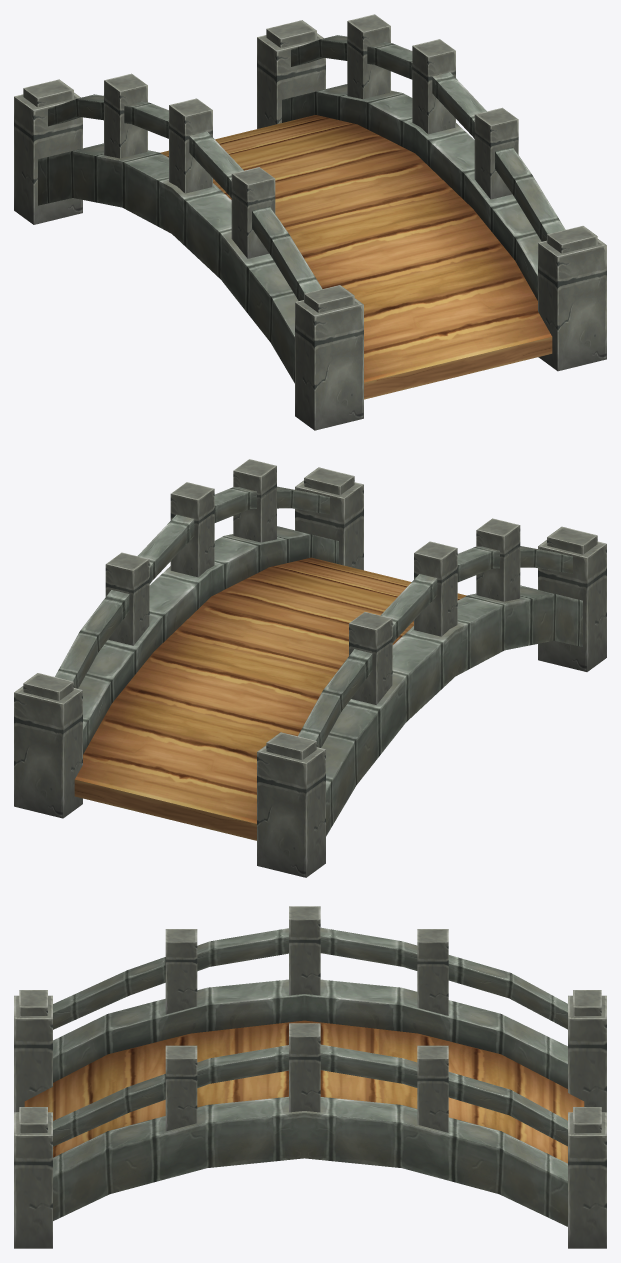
The model's file is bridge_03a_02.fbx.
3 renders of one model, top to bottom at view 1: azimuth 30°, elevation 25°; view 2: azimuth 150°, elevation 25°; view 3: azimuth 270°, elevation 25°, orthographic.
Parts seen in each view (by area): view 1: bridge_03a_02; view 2: bridge_03a_02; view 3: bridge_03a_02.
Part boxes in pixels (x1,y1,x2,y2): bridge_03a_02: (14, 14, 606, 430); bridge_03a_02: (14, 459, 606, 877); bridge_03a_02: (14, 906, 606, 1248).
Bounding box in the file's own units: 2.47 × 1.69 × 4.4.
